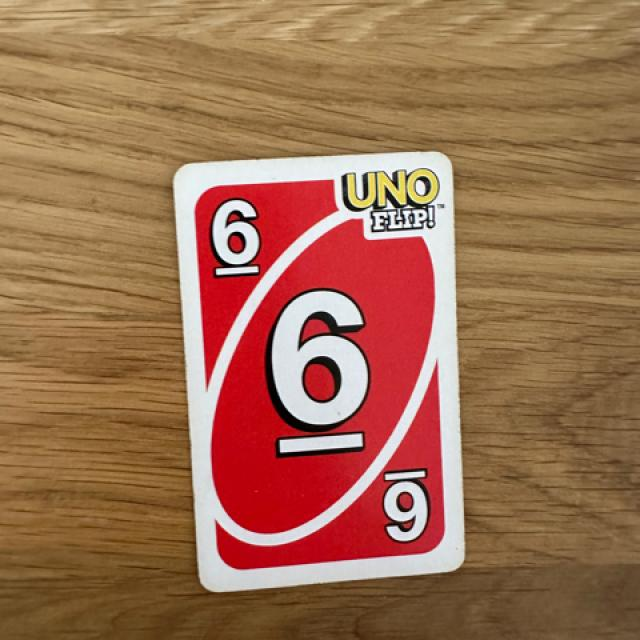lred-6: (187, 175, 283, 289)
